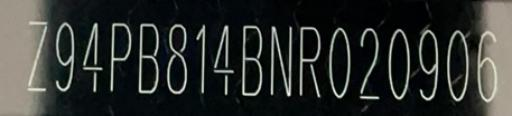letter: (352, 24, 388, 100), (472, 26, 506, 106), (384, 23, 418, 101), (441, 25, 475, 103), (102, 18, 136, 94), (265, 20, 299, 96), (322, 24, 356, 100), (236, 18, 268, 98), (21, 17, 53, 93), (162, 20, 194, 96), (414, 25, 446, 101), (296, 23, 328, 97), (134, 18, 164, 96), (49, 18, 79, 94), (78, 19, 106, 95), (212, 20, 238, 96), (190, 21, 214, 97)
